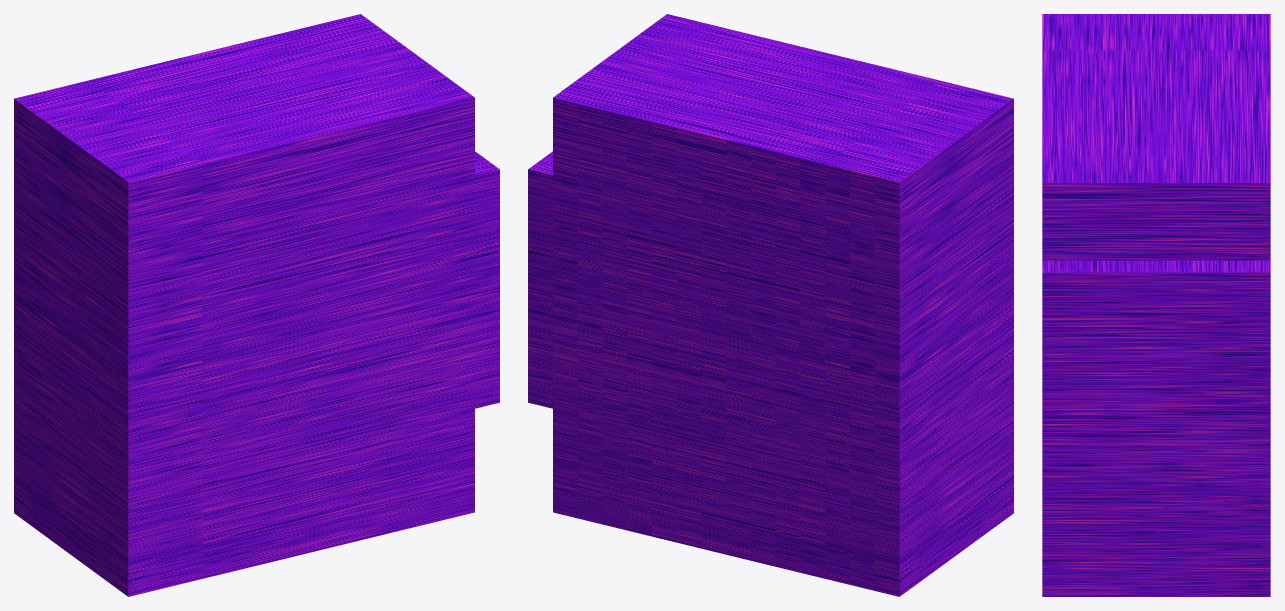
File: tier0_piece_12.obj
The picture shows the model from 3 angles, left to right: view 1: azimuth 30°, elevation 25°; view 2: azimuth 150°, elevation 25°; view 3: azimuth 270°, elevation 25°; orthographic projection.
Parts seen in each view (by area): view 1: tier0_piece_12; view 2: tier0_piece_12; view 3: tier0_piece_12.
Boxes of the visible parts, box(x1,y1,x2,y2) form: tier0_piece_12: box(14, 14, 499, 596); tier0_piece_12: box(528, 14, 1013, 596); tier0_piece_12: box(1042, 14, 1270, 596).
Size of the model in its own units: 0.9375 by 1 by 0.5.
